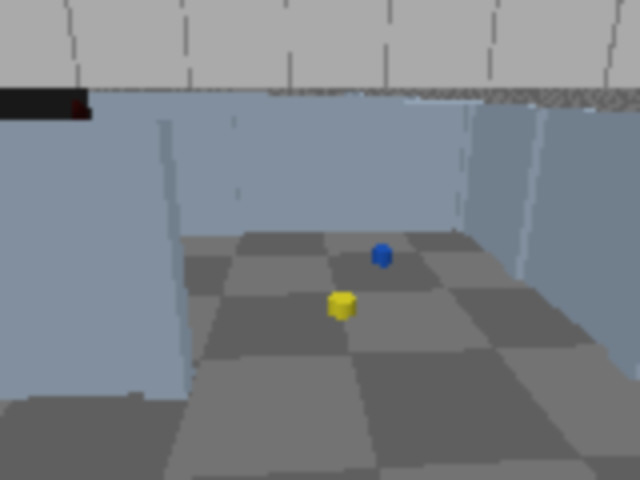puck: (332, 293, 353, 317), (373, 246, 394, 266)
